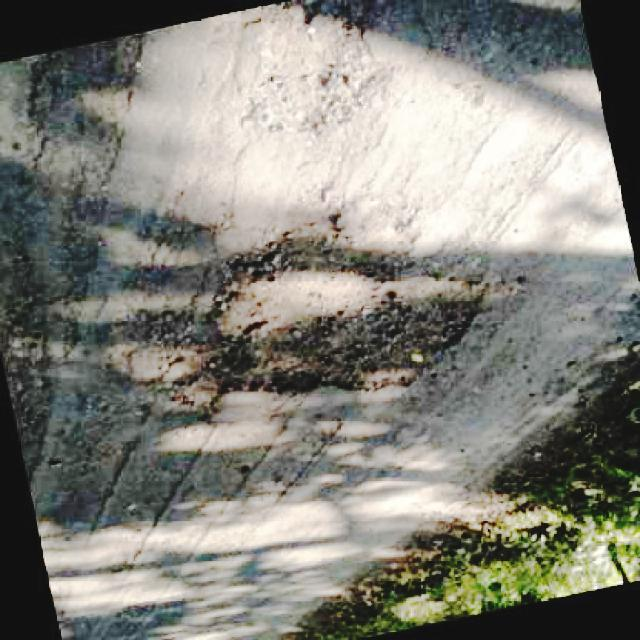pothole: (200, 224, 503, 404), (244, 0, 370, 135)
